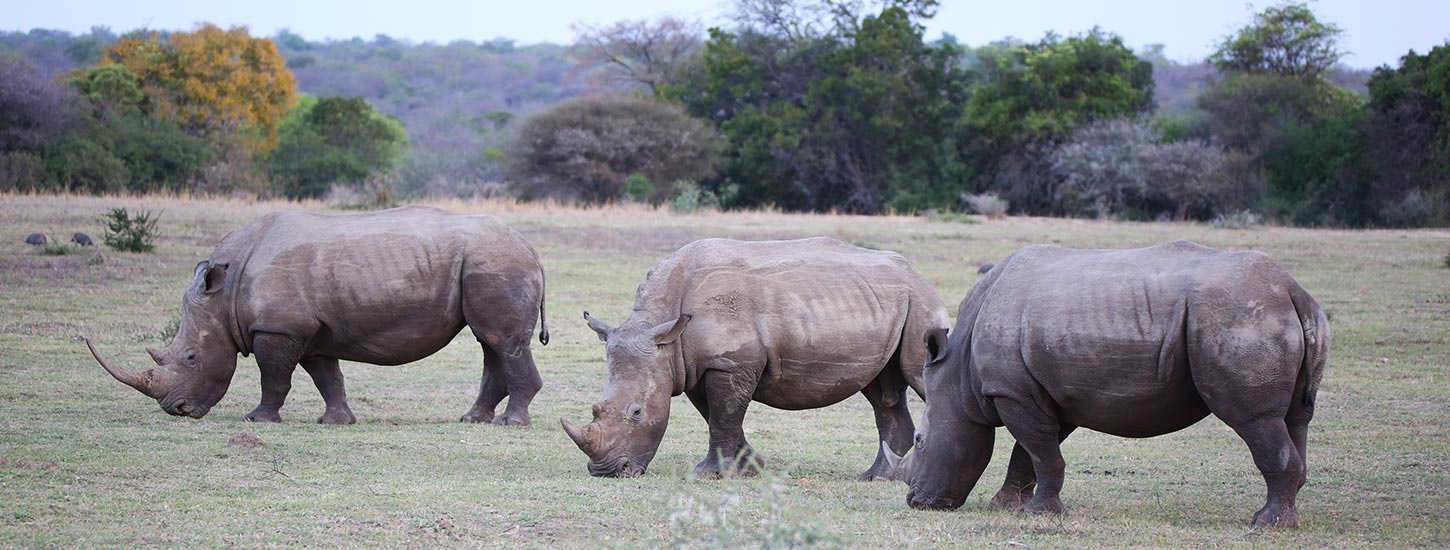rhino: (873, 240, 1334, 531), (87, 204, 552, 428), (553, 237, 949, 485)
